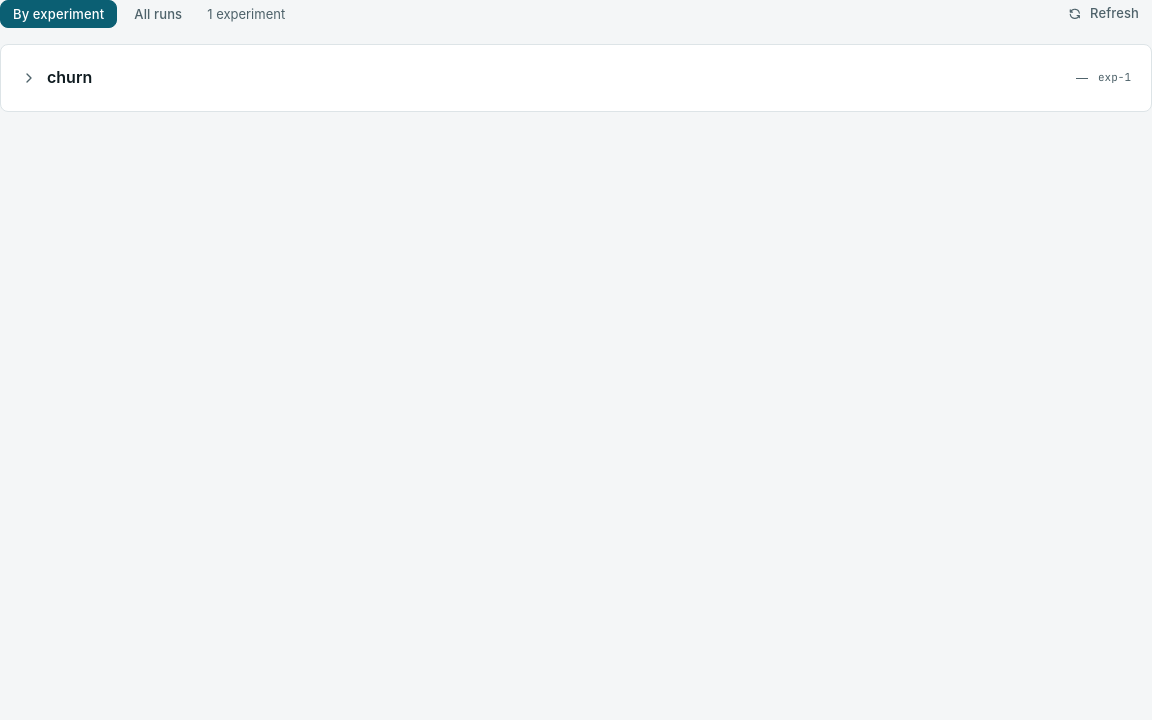
Test: Experiments › All runs › opens a run with its evidence and keeps Ducta's own parameters folded
Step 1. Click the button "All runs" → {"x": 158, "y": 14}, box [121,0,195,28]
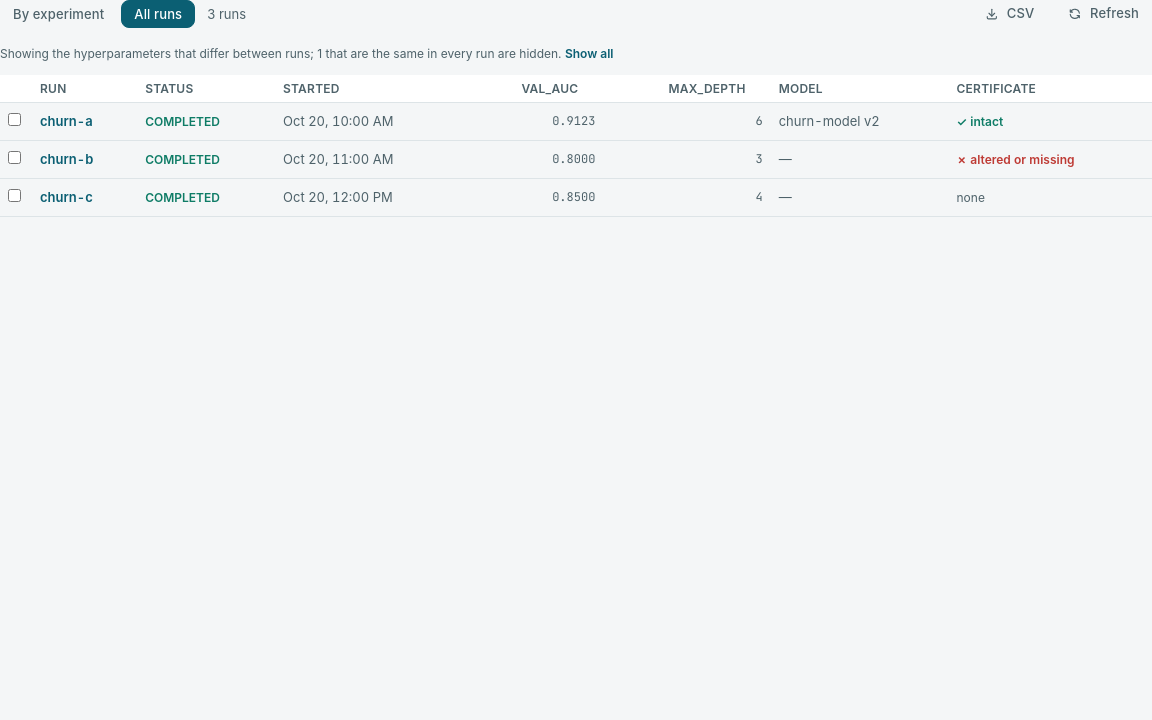
Step 2. Click the button "churn-a" → {"x": 66, "y": 122}, box [40,111,93,132]
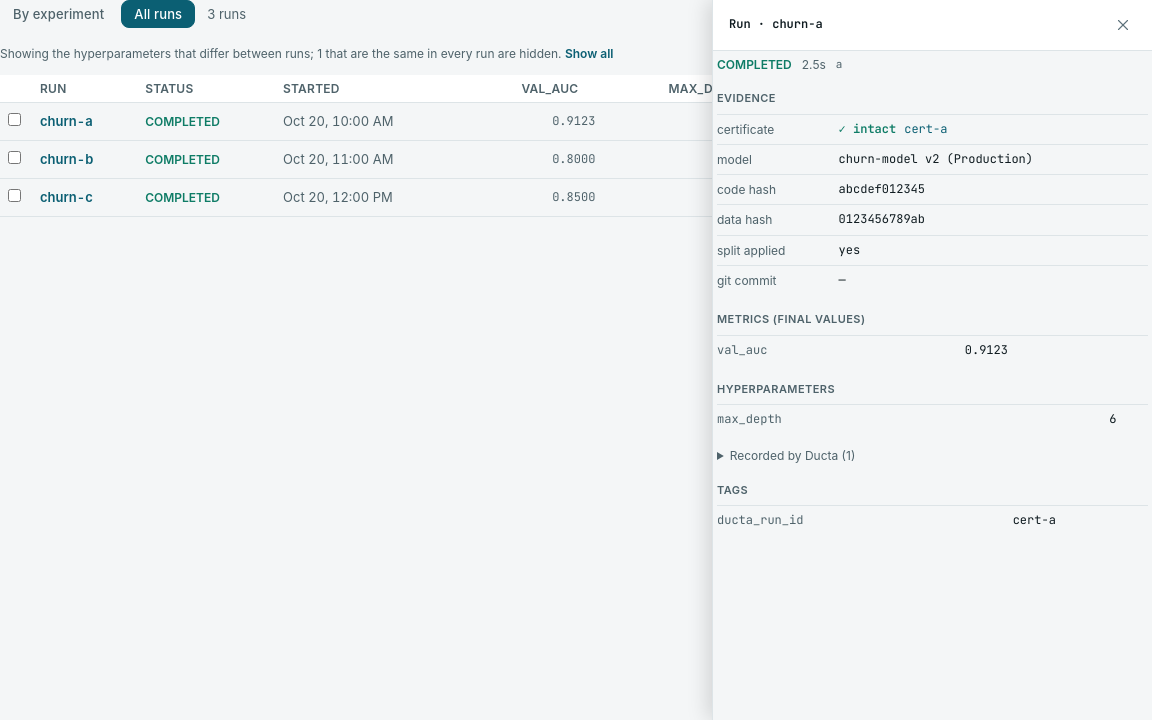
Now the text "churn-model v2 (Production)" is shown, box [839,144,1148,175]
Now the text "abcdef012345" is shown, box [839,175,1148,205]
Now the text "max_depth" is shown, box [717,405,1109,434]
